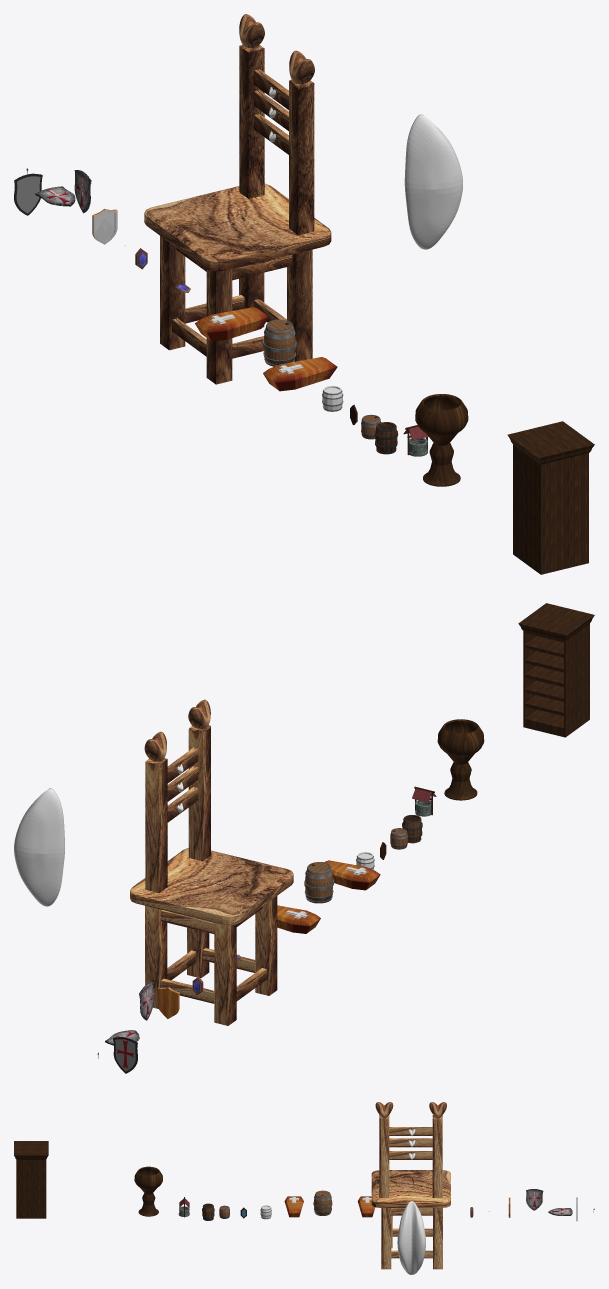
File: objetosparte2.fbx
The picture shows the model from 3 angles, top to bottom: view 1: azimuth 30°, elevation 25°; view 2: azimuth 150°, elevation 25°; view 3: azimuth 270°, elevation 25°; orthographic projection. The views are drawn at different scales.
Visible parts, largest first — view 1: Cube.007, Plane.004, Cube.001, Circle, Plane, Plane.002, Circle.001, Cube.009, Plane.001; view 2: Cube.007, Plane.004, Cube.001, Circle, Circle.001, Plane, Plane.002, Cube.009; view 3: Cube.007, Plane.004, Cube.001, Circle, Circle.001, Plane, Cube.008, Plane.002.
Boxes of the visible parts, x1,y1,x2,y2 form: Cube.007: [144, 45, 331, 384]; Plane.004: [507, 421, 594, 574]; Cube.001: [404, 114, 462, 249]; Circle: [415, 394, 468, 486]; Plane: [263, 357, 337, 391]; Plane.002: [195, 307, 269, 341]; Circle.001: [263, 319, 296, 366]; Cube.009: [14, 173, 42, 215]; Plane.001: [92, 209, 117, 244]; Cube.007: [130, 725, 293, 1025]; Plane.004: [518, 603, 594, 737]; Cube.001: [14, 788, 64, 906]; Circle: [437, 719, 484, 800]; Circle.001: [304, 862, 333, 903]; Plane: [325, 860, 380, 890]; Plane.002: [277, 905, 320, 933]; Cube.009: [113, 1037, 137, 1073]; Cube.007: [371, 1115, 450, 1269]; Plane.004: [14, 1141, 48, 1218]; Cube.001: [397, 1201, 425, 1274]; Circle: [134, 1166, 162, 1216]; Circle.001: [313, 1190, 332, 1215]; Plane: [284, 1196, 303, 1217]; Cube.008: [526, 1189, 543, 1210]; Plane.002: [357, 1196, 375, 1217].
Size of the model in its own units: 36.24 by 36.32 by 116.
